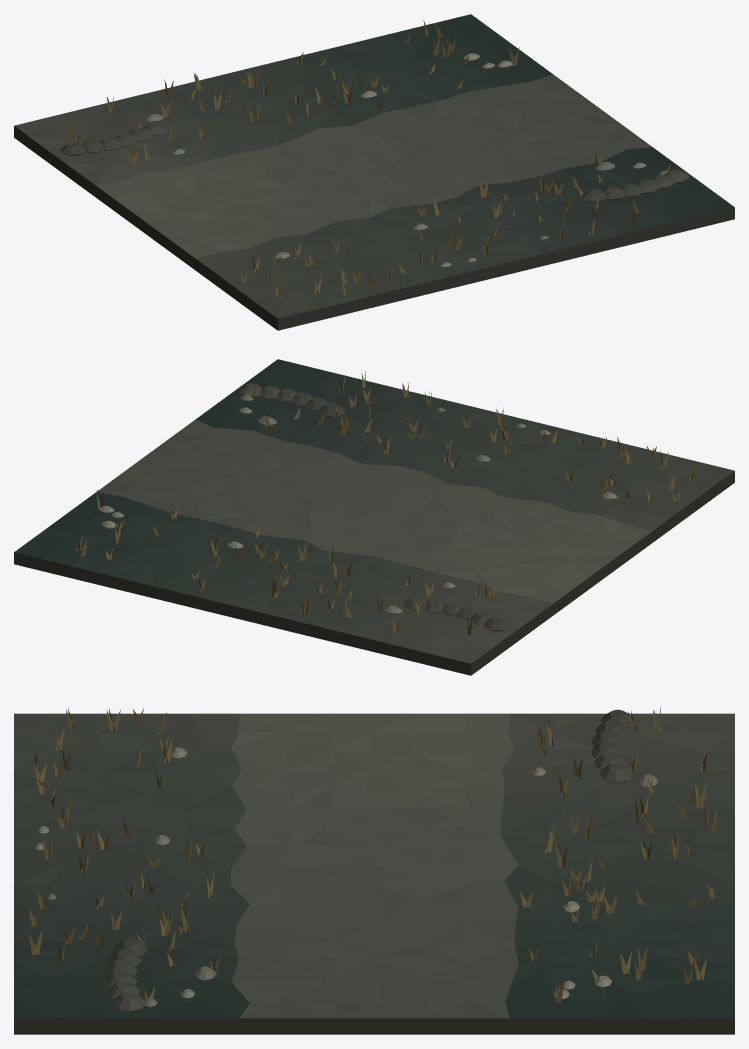
File: CHUNK_TRANS_ash_grassland__bell_mire__1.glb
3 views of the same model, one above another, from view 1: azimuth 30°, elevation 25°; view 2: azimuth 150°, elevation 25°; view 3: azimuth 270°, elevation 25° (orthographic). The views are drawn at different scales.
Visible parts, largest first — view 1: CHUNK_TRANS_ash_grassland__bell_mire__1; view 2: CHUNK_TRANS_ash_grassland__bell_mire__1; view 3: CHUNK_TRANS_ash_grassland__bell_mire__1.
Part boxes in pixels (<box>): CHUNK_TRANS_ash_grassland__bell_mire__1: <box>14,14,734,330</box>; CHUNK_TRANS_ash_grassland__bell_mire__1: <box>14,359,734,675</box>; CHUNK_TRANS_ash_grassland__bell_mire__1: <box>14,705,734,1034</box>.
Bounding box in the file's own units: 8 × 0.5518 × 8.
